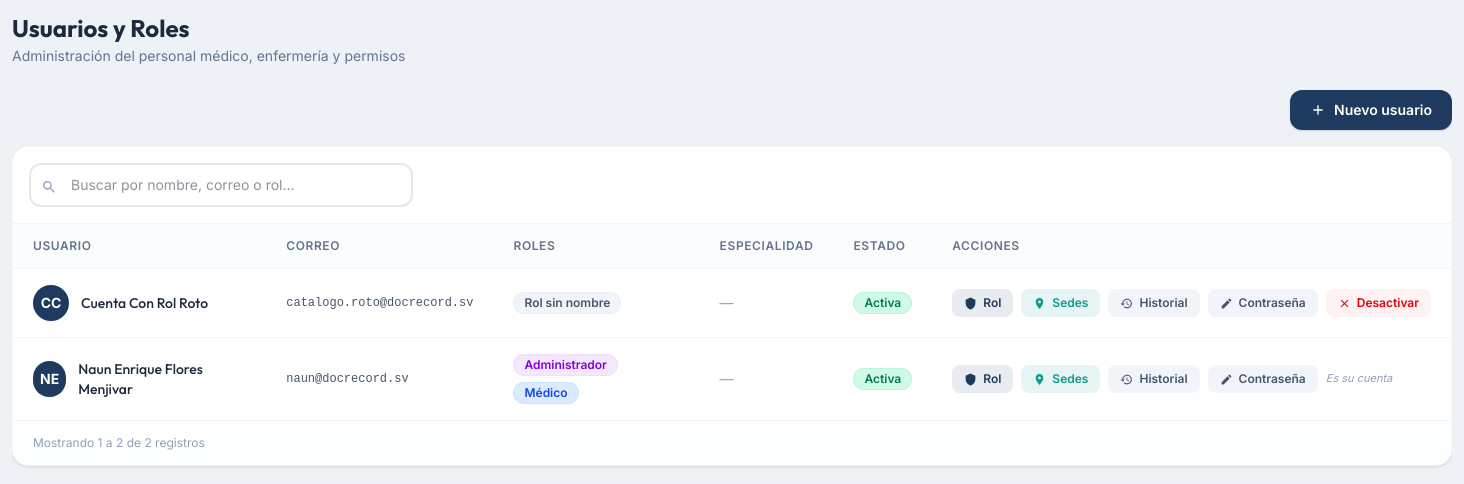
Scenario: con rol Administrador › busca sin reventar con un rol sin nombre en la lista
expect the text "Cuenta Con Rol Roto" is shown: met, box [81,293,208,313]
# La caja de búsqueda mira también los roles: es donde el nulo revienta.
In the field with placeholder "Buscar por nombre, correo o rol...": (221,185) [29,163,413,207], type "administrador"
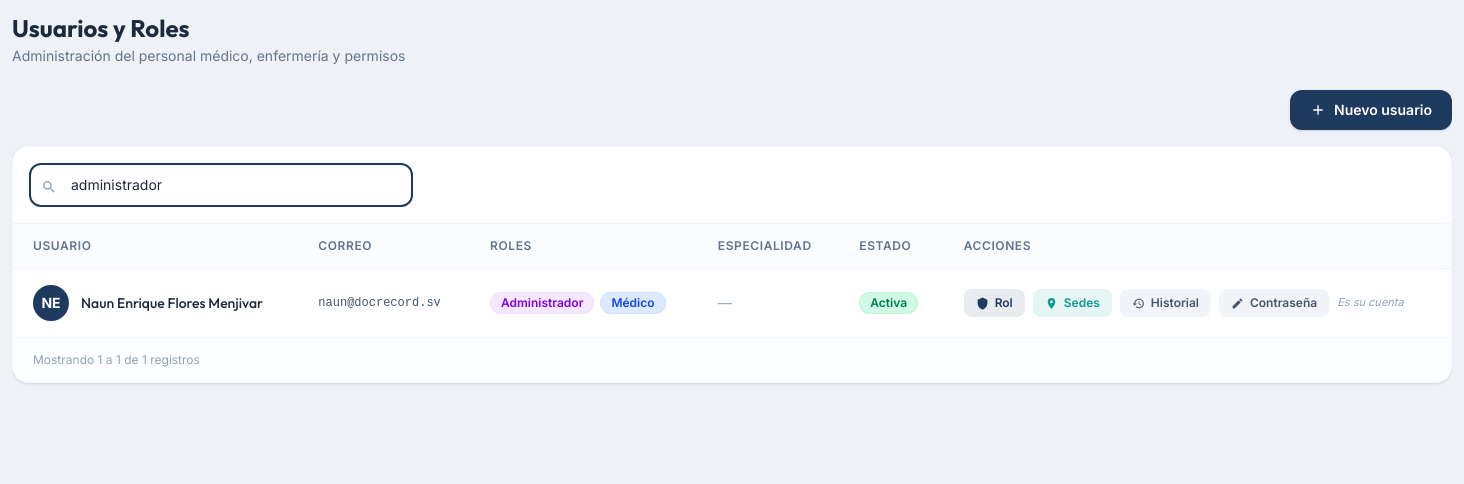
expect the text "Naun Enrique Flores Menjivar" is shown: met, box [81,293,263,313]
expect the text "Cuenta Con Rol Roto" is gone: met
